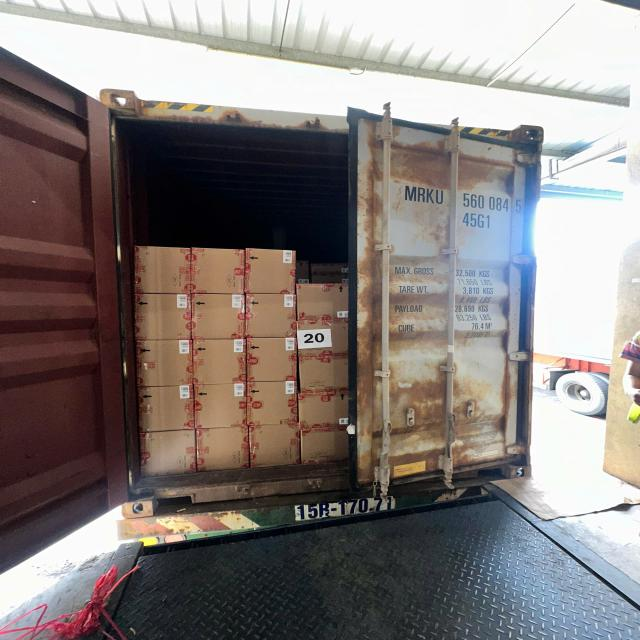Carton: (135, 248, 193, 296), (136, 294, 192, 342), (138, 339, 195, 386), (138, 387, 195, 434), (139, 429, 195, 476), (191, 294, 245, 341), (192, 338, 246, 385), (191, 251, 245, 296), (194, 381, 246, 427), (196, 428, 249, 473), (248, 380, 300, 425), (248, 338, 300, 383), (298, 353, 354, 394), (296, 390, 352, 431), (300, 423, 354, 465), (248, 250, 297, 296), (248, 294, 298, 339), (250, 426, 302, 469), (296, 284, 350, 322), (296, 322, 350, 357)
